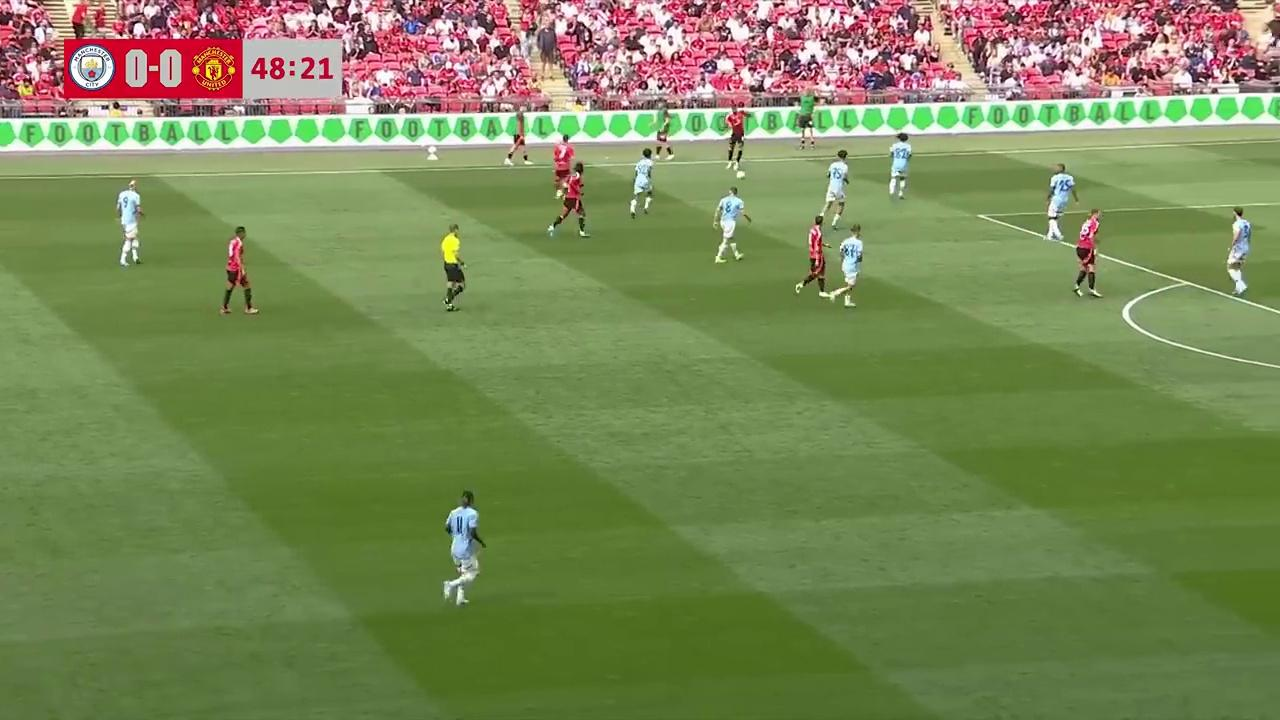player: (443, 489, 487, 607), (219, 227, 258, 316), (829, 224, 864, 308), (712, 186, 750, 263), (549, 166, 589, 238), (795, 216, 829, 296), (115, 178, 144, 267), (1073, 211, 1102, 298), (1225, 207, 1252, 299), (1046, 163, 1079, 233), (821, 150, 849, 228), (629, 149, 655, 217), (888, 134, 913, 200), (550, 137, 574, 202), (724, 115, 746, 175)
referee: (439, 224, 466, 311)
